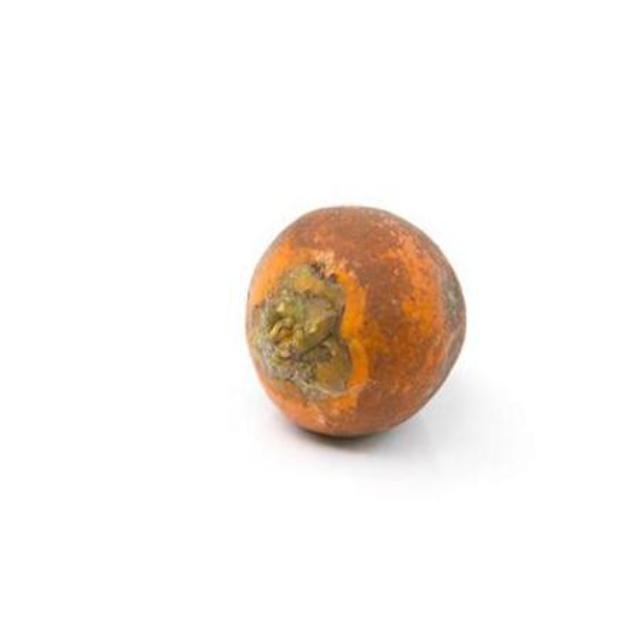good: (243, 207, 468, 440)
